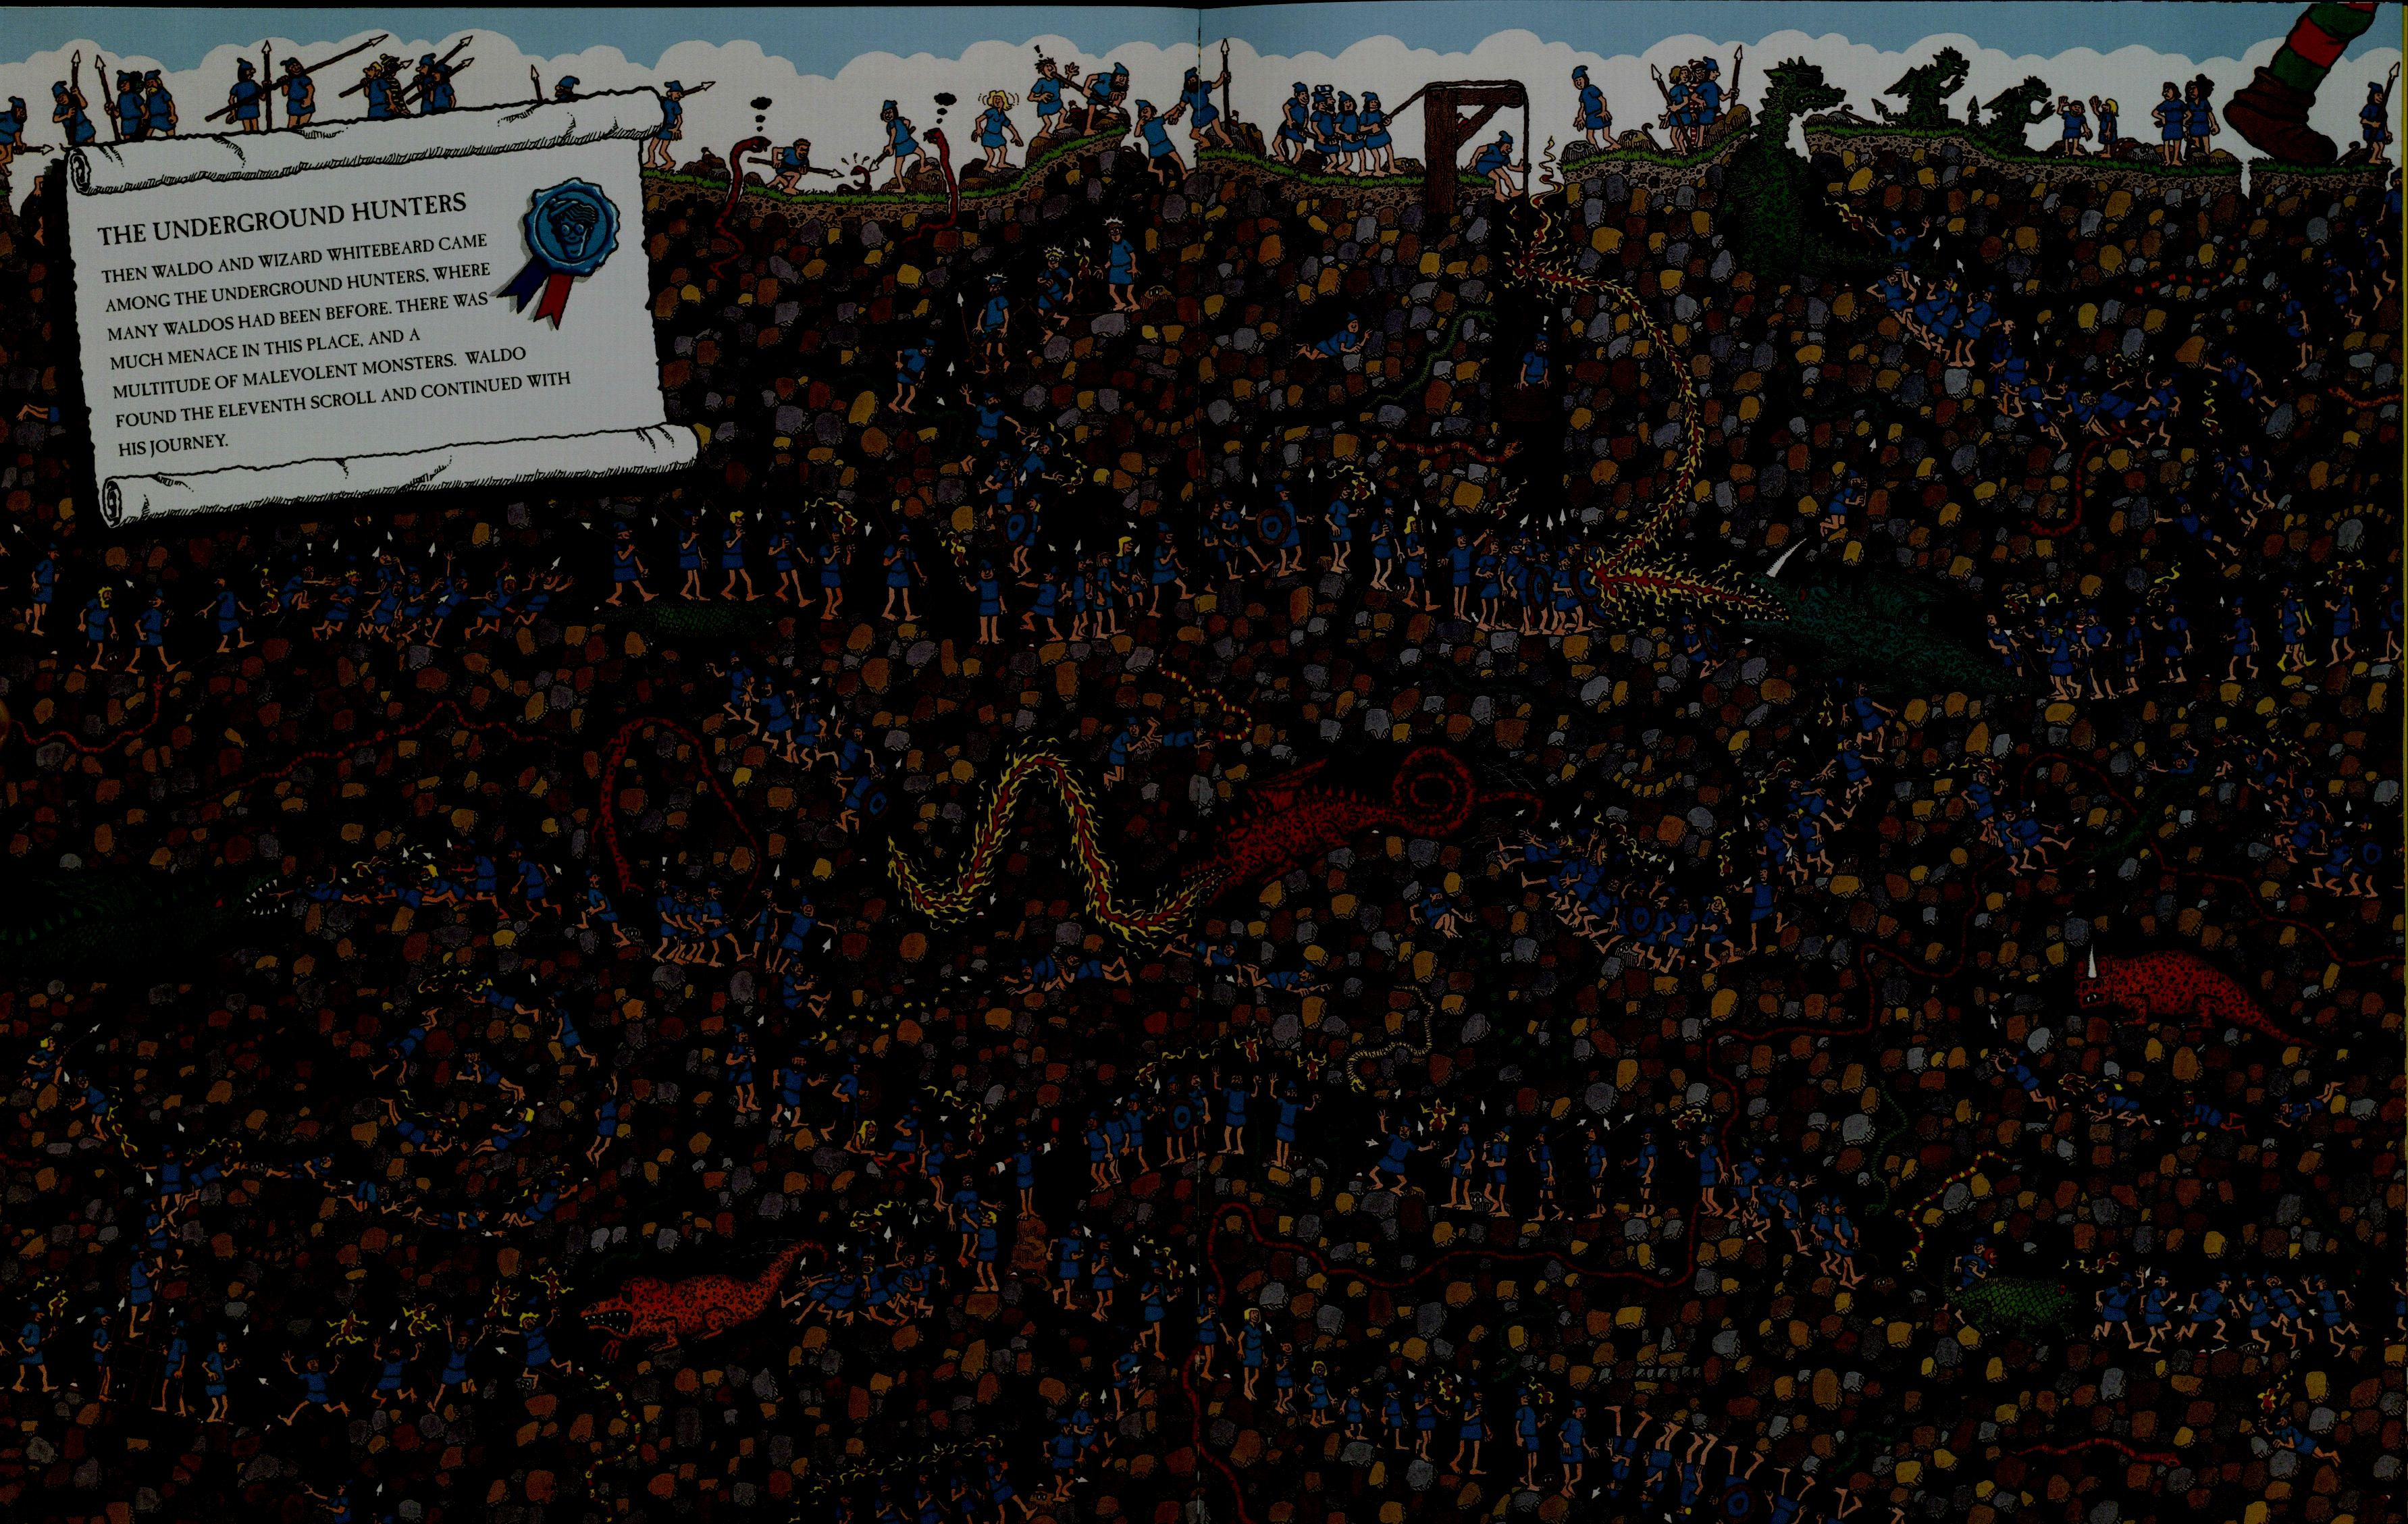waldos: (2068, 592, 2097, 694)
